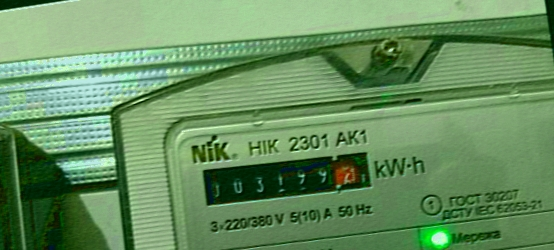0: (207, 178, 222, 200), (230, 174, 245, 196)
1: (274, 168, 286, 188)
3: (252, 174, 266, 195)
6: (342, 170, 354, 187)
9: (295, 166, 308, 187), (316, 164, 329, 185)
screen: (194, 140, 382, 221)
